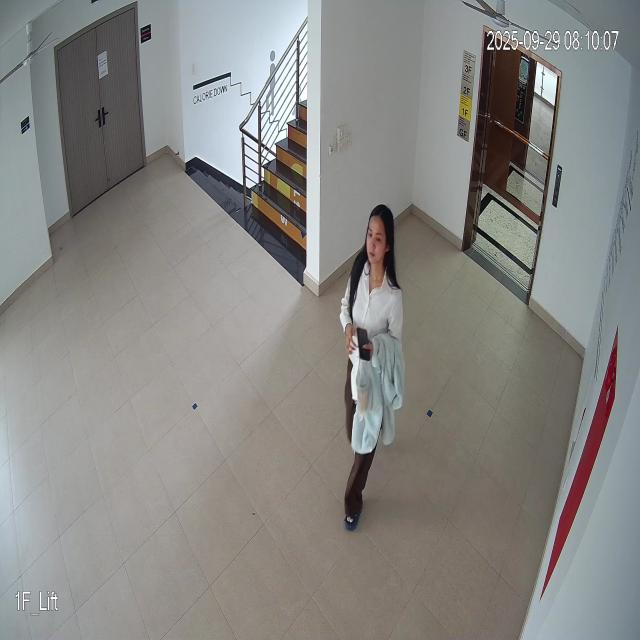face: (363, 202, 393, 267)
